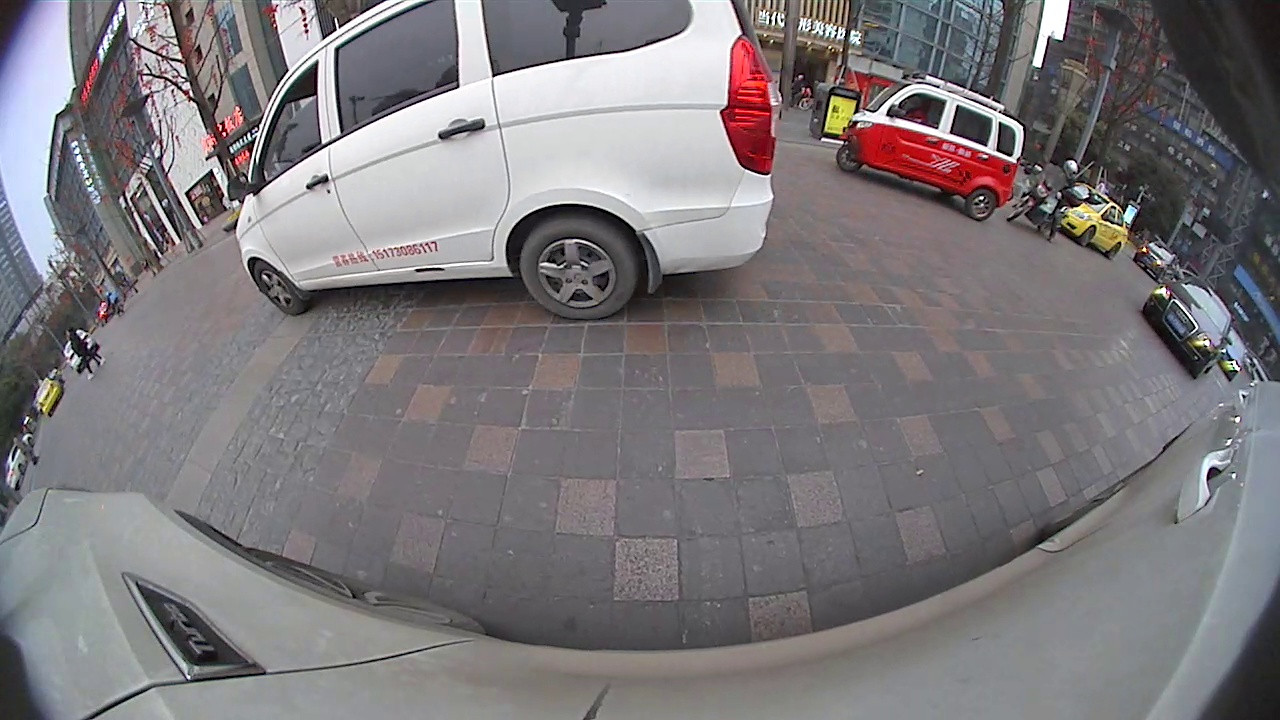car: (233, 1, 779, 321), (1141, 274, 1235, 379), (1057, 186, 1129, 260), (1133, 239, 1179, 282), (34, 376, 65, 419)
front: (249, 258, 310, 318), (833, 142, 866, 175)
person: (67, 327, 83, 380)
rear: (515, 209, 639, 325), (964, 187, 998, 223)
rider: (836, 72, 1026, 223), (1005, 157, 1087, 240)
